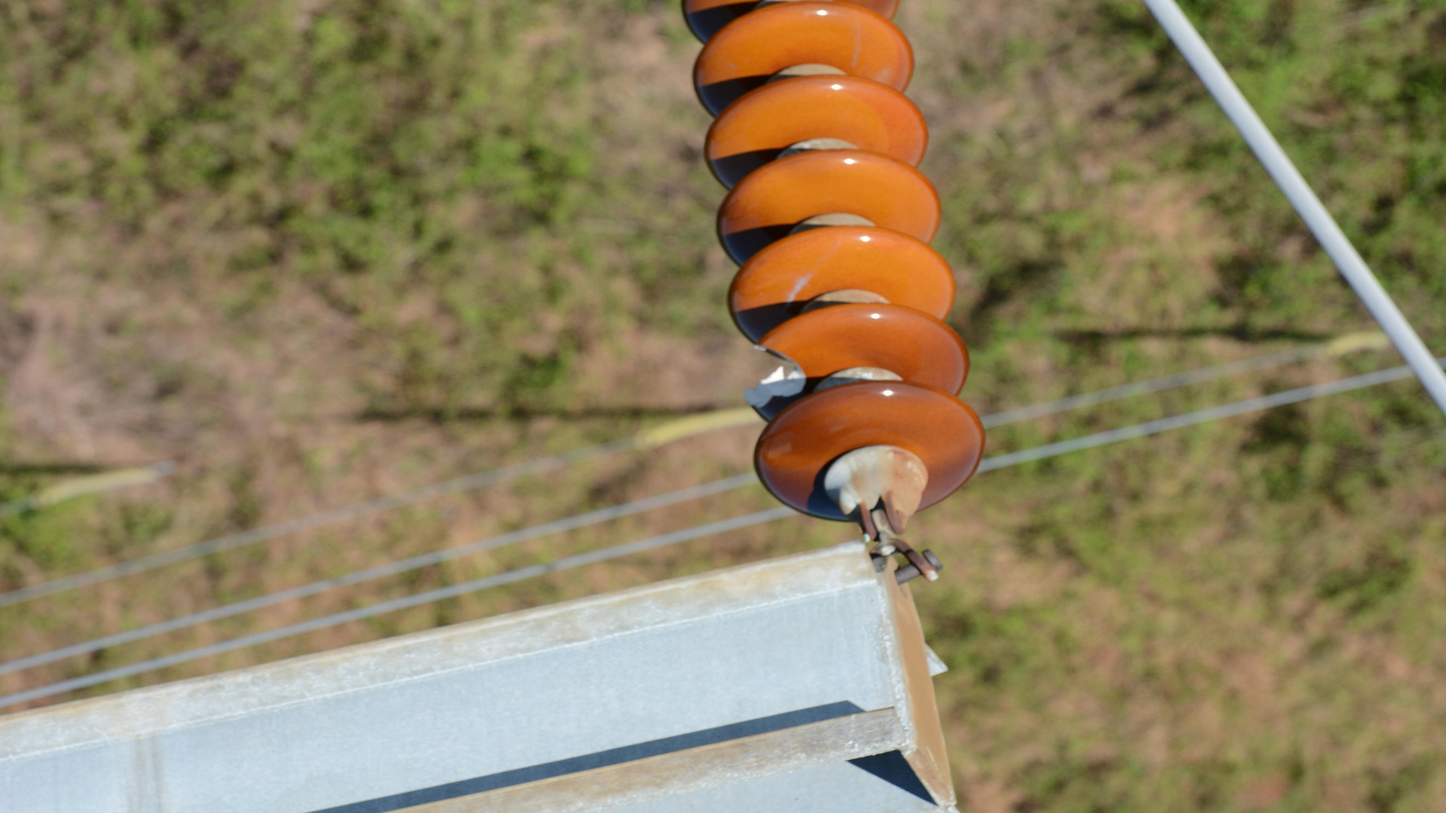insulator: (673, 1, 994, 531)
insulator_breakage: (737, 337, 813, 413)
